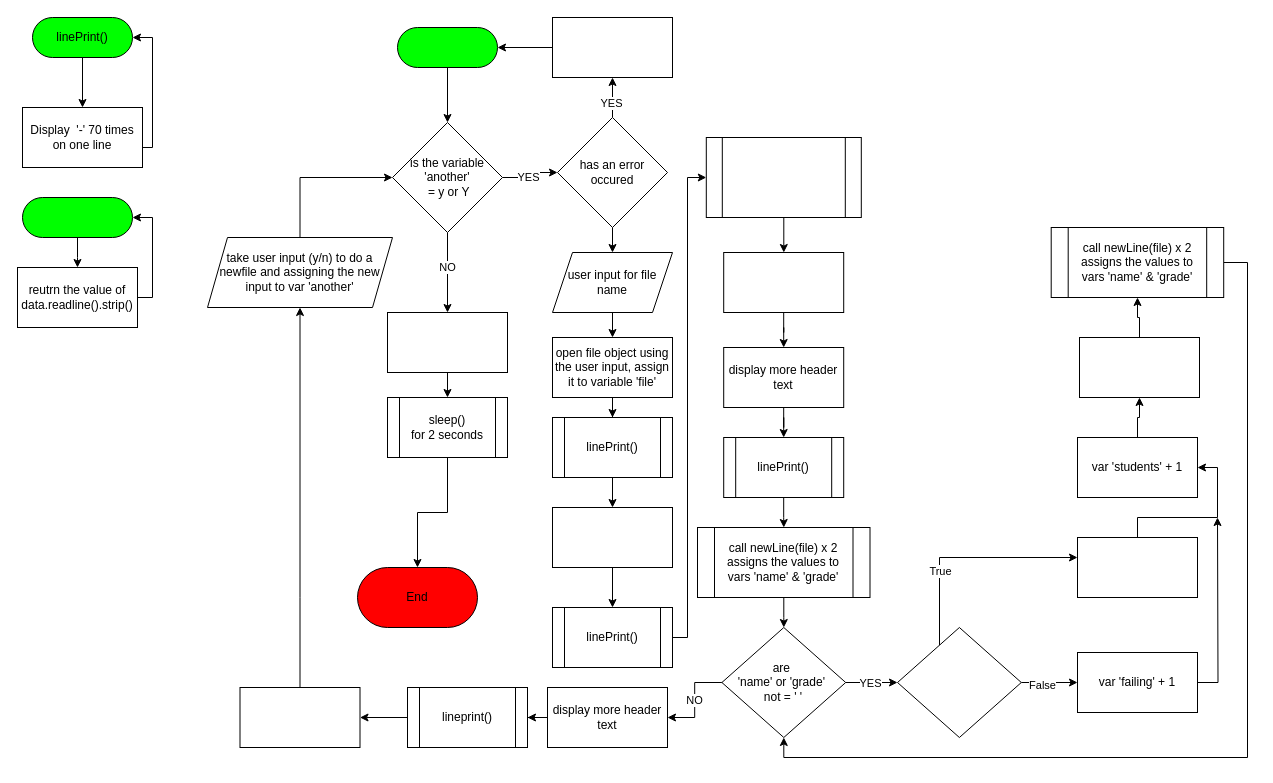
Some shapes in this 1273 by 783 pixel diagram are drawn without their labels. The shapes that lost their labels are listed below. From the top down, each one's box as (x1, y1, x2, y2) in pixels, then its label:
(396, 26, 498, 68): main()
(552, 16, 672, 78): display the error and after 3 seconds call main() again
(705, 136, 861, 218): call newLine(file)x3 assign the values to vars 'course', 'professor', and 'term'
(22, 196, 132, 238): newLine(data)
(723, 252, 844, 312): display header text using the vars 'course', 'professor', and 'term'
(386, 312, 508, 372): Display "Good Bye"
(1078, 336, 1200, 398): var 'gradeSum' = gradeSum + int(grade)
(552, 506, 672, 568): display header text
(1076, 536, 1198, 598): var 'passing' + 1
(896, 626, 1021, 738): if grade >= 60
(239, 686, 360, 748): display the value of pass, fail, gradeAvg, and pass%
